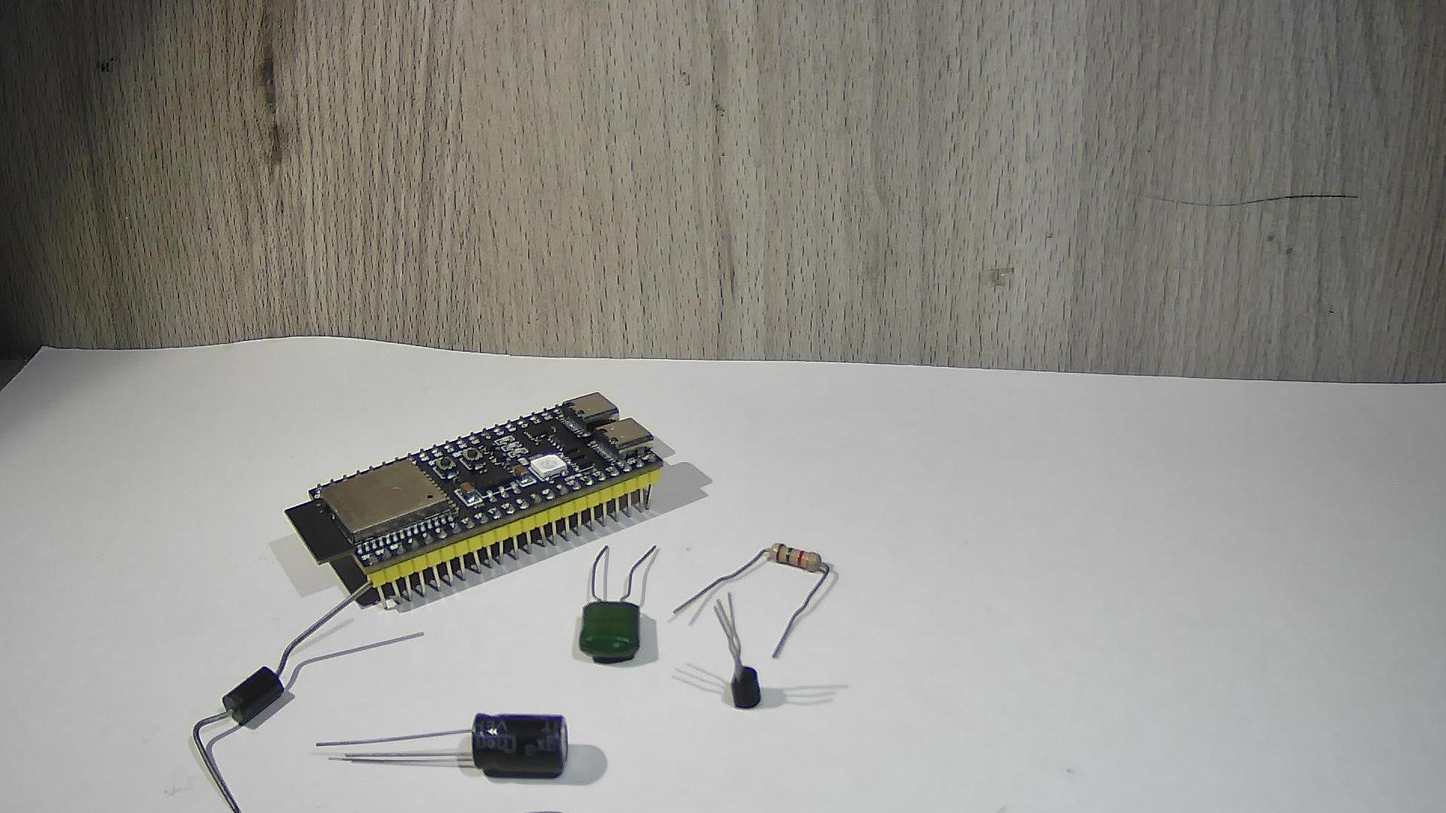Capacitor: (310, 711, 578, 784)
Diodo: (162, 619, 303, 804)
ESP32: (287, 390, 653, 599)
Resistencia: (725, 535, 837, 587)
Transistor: (676, 600, 780, 718)
capacitor ceramico: (566, 529, 670, 675)
